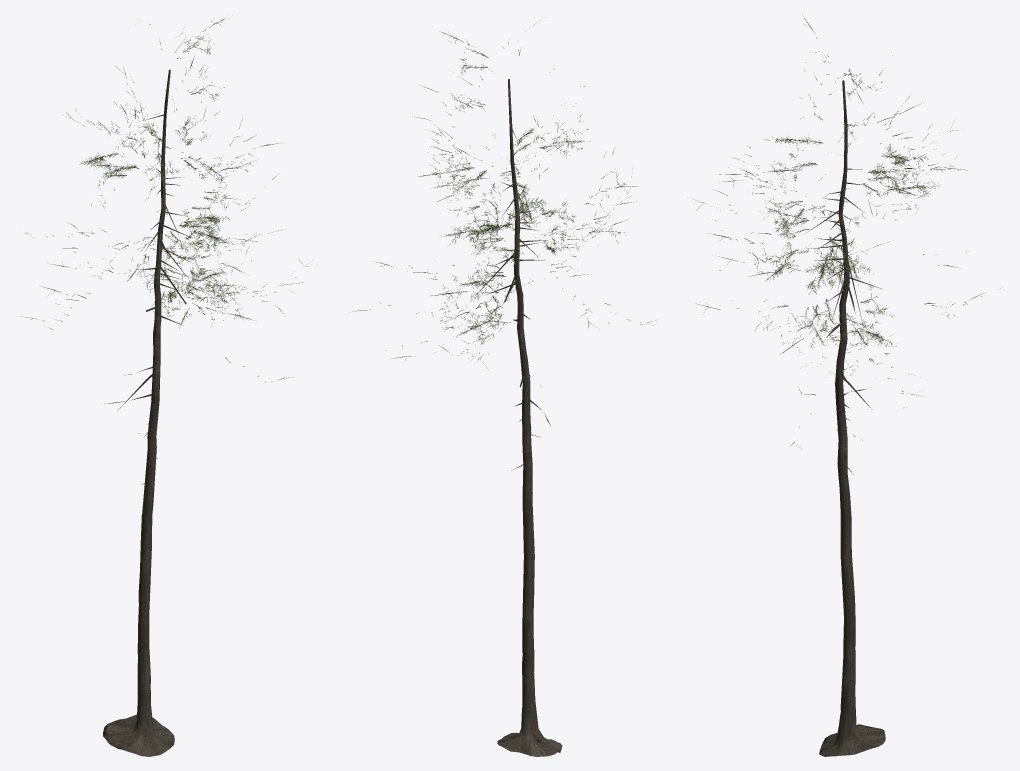
The model's file is tree-fir-lod.glb.
3 views of the same model, side by side, from view 1: azimuth 30°, elevation 25°; view 2: azimuth 150°, elevation 25°; view 3: azimuth 270°, elevation 25° (orthographic). The views are drawn at different scales.
Parts seen in each view (by area): view 1: fir_tree_01_c; view 2: fir_tree_01_c; view 3: fir_tree_01_c.
Part boxes in pixels (x1=…): fir_tree_01_c: x1=20, y1=18, x2=308, y2=756; fir_tree_01_c: x1=352, y1=17, x2=652, y2=756; fir_tree_01_c: x1=694, y1=18, x2=1000, y2=756.
Size of the model in its own units: 6.09 by 14.42 by 5.63.
4 materials, 4 textured.
